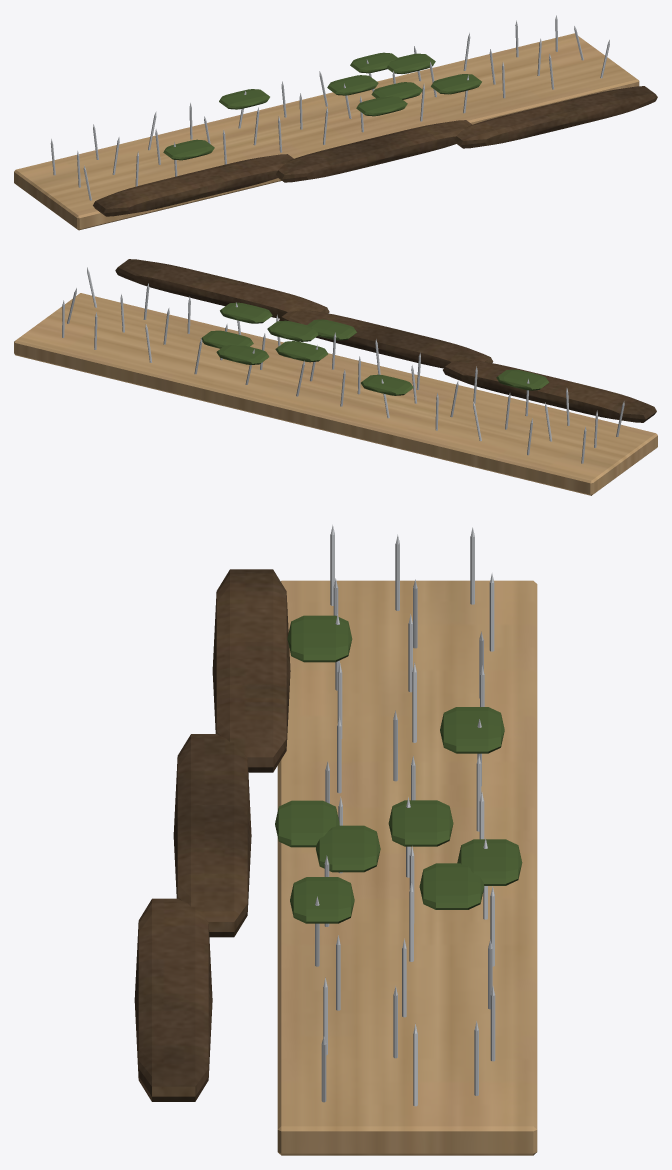
Rendered from tabua_pregos.glb.
3 renders of one model, top to bottom at view 1: azimuth 30°, elevation 25°; view 2: azimuth 150°, elevation 25°; view 3: azimuth 270°, elevation 25°, orthographic. The views are drawn at different scales.
Visible parts, largest first — view 1: tabua_pregos_madeira_crua, tabua_pregos_galho, tabua_pregos_folha_mato, tabua_pregos_aco; view 2: tabua_pregos_madeira_crua, tabua_pregos_galho, tabua_pregos_folha_mato, tabua_pregos_aco; view 3: tabua_pregos_madeira_crua, tabua_pregos_galho, tabua_pregos_folha_mato, tabua_pregos_aco.
Part boxes in pixels (x1,y1,x2,y2): tabua_pregos_madeira_crua: [14, 33, 639, 230]; tabua_pregos_galho: [93, 86, 657, 216]; tabua_pregos_folha_mato: [163, 52, 481, 160]; tabua_pregos_aco: [50, 15, 609, 200]; tabua_pregos_madeira_crua: [14, 293, 657, 495]; tabua_pregos_galho: [115, 259, 656, 422]; tabua_pregos_folha_mato: [201, 302, 549, 395]; tabua_pregos_aco: [62, 267, 624, 463]; tabua_pregos_madeira_crua: [277, 580, 537, 1155]; tabua_pregos_galho: [134, 569, 290, 1101]; tabua_pregos_folha_mato: [275, 615, 522, 923]; tabua_pregos_aco: [315, 524, 495, 1106].
Bounding box in the file's own units: 1 × 0.088 × 0.31.
Materials: 4 (2 with a texture image).
